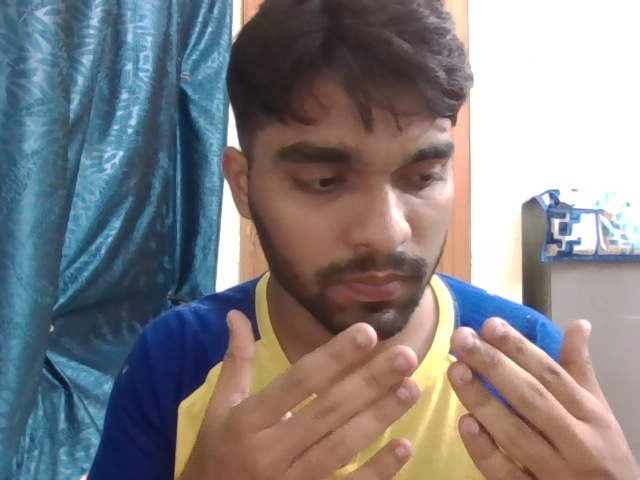Thank You: (188, 267, 626, 480)
